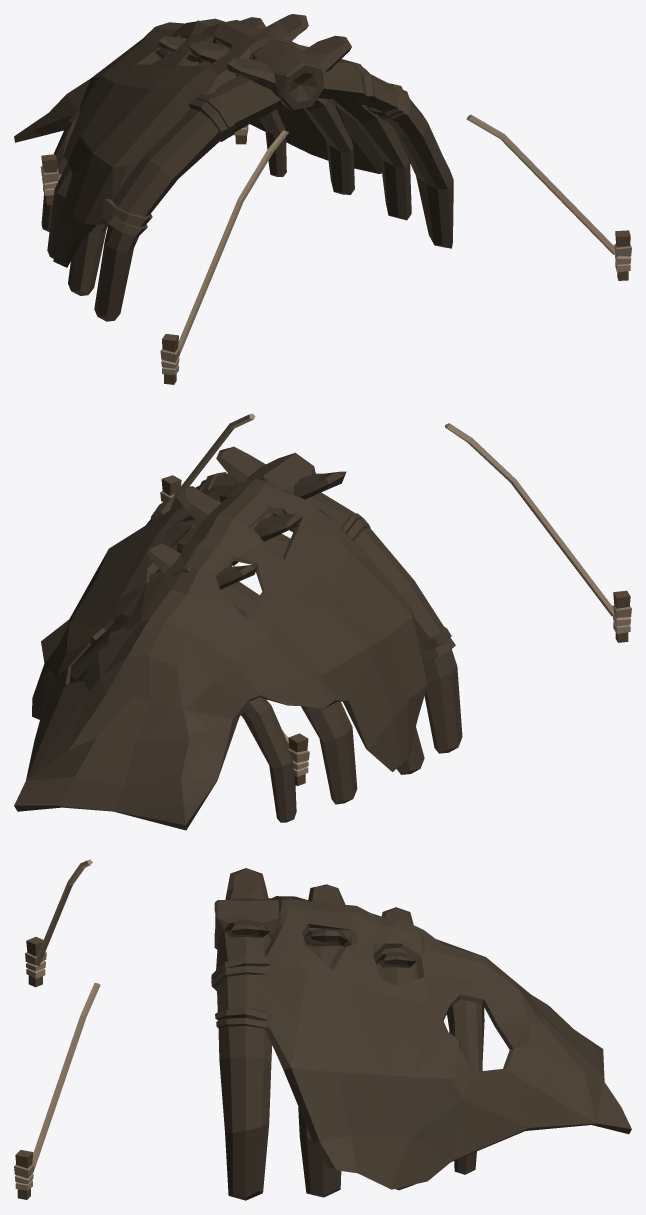
The model's file is bog_tent_a.gltf.
3 views of the same model, one above another, from view 1: azimuth 30°, elevation 25°; view 2: azimuth 150°, elevation 25°; view 3: azimuth 270°, elevation 25° (orthographic). The views are drawn at different scales.
Visible parts, largest first — view 1: bog_tent_a; view 2: bog_tent_a; view 3: bog_tent_a.
Part boxes in pixels (left/top/right/bottom): bog_tent_a: left=14, top=14, right=631, bottom=384; bog_tent_a: left=14, top=413, right=631, bottom=830; bog_tent_a: left=14, top=859, right=631, bottom=1200.
Bounding box in the file's own units: 6.08 × 3.02 × 7.19.
Materials: 2 (2 with a texture image).
